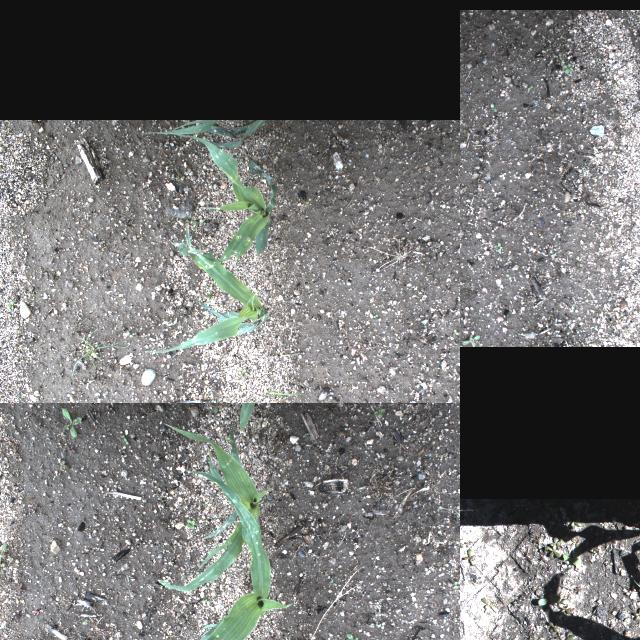crop: (127, 469, 293, 640), (156, 422, 268, 590), (143, 130, 277, 262), (147, 227, 267, 353), (139, 120, 265, 148), (237, 403, 260, 432)
weed: (72, 338, 128, 377), (58, 406, 84, 436), (48, 458, 72, 482), (537, 500, 559, 520), (26, 604, 50, 622), (202, 403, 227, 419), (186, 216, 206, 234), (116, 567, 134, 587), (480, 596, 500, 614), (560, 513, 582, 529), (372, 404, 388, 424), (58, 441, 78, 457), (176, 517, 198, 531), (10, 583, 28, 599), (536, 594, 560, 606), (442, 578, 458, 594), (461, 334, 481, 346), (264, 389, 296, 396), (73, 614, 89, 628), (544, 544, 560, 558), (562, 553, 580, 565), (464, 548, 476, 566), (342, 631, 365, 640), (550, 598, 570, 608), (560, 61, 574, 75), (129, 516, 143, 530), (548, 536, 564, 548), (546, 621, 560, 633), (556, 604, 572, 614), (555, 632, 574, 640), (174, 164, 182, 182), (121, 434, 133, 446), (574, 261, 584, 275), (326, 576, 334, 592), (493, 242, 503, 254), (632, 607, 640, 621), (241, 368, 247, 386), (633, 579, 640, 594), (0, 543, 5, 563), (570, 537, 580, 547), (198, 292, 212, 298), (6, 301, 14, 311), (532, 536, 542, 544), (460, 540, 471, 547), (554, 632, 563, 640), (250, 635, 264, 640), (608, 80, 616, 88), (489, 104, 497, 112), (0, 560, 4, 574), (526, 84, 532, 92), (505, 273, 511, 281), (568, 302, 576, 308), (592, 324, 598, 332), (594, 59, 600, 66), (558, 52, 562, 62), (282, 142, 288, 148), (549, 252, 555, 258), (590, 548, 596, 554), (610, 109, 614, 115), (460, 536, 462, 546), (352, 258, 360, 260), (374, 314, 378, 318)
